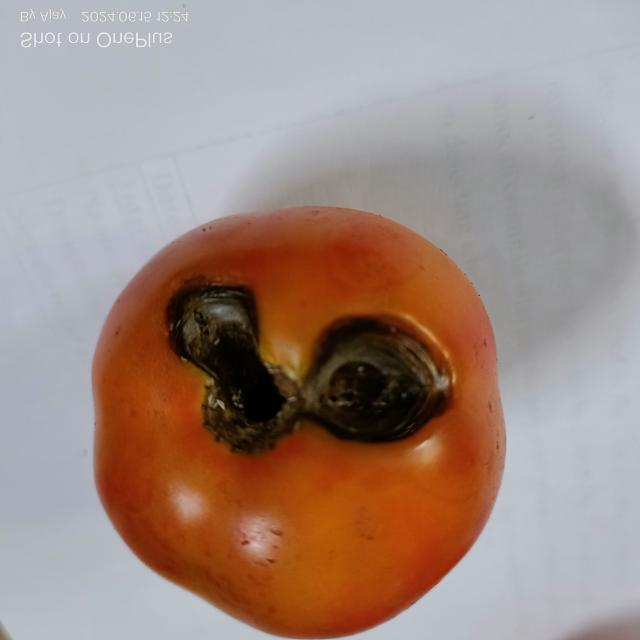Anthrocnose: (160, 280, 298, 452), (309, 318, 447, 446)
